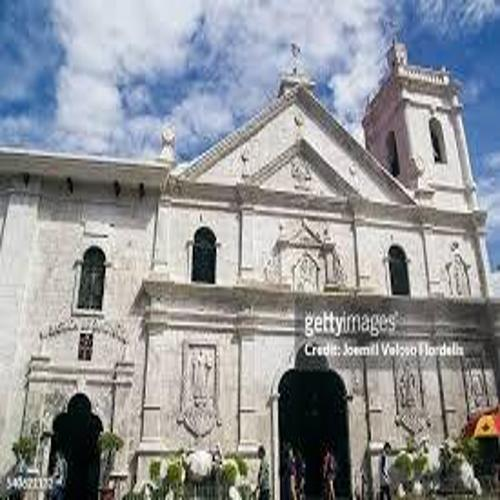Sto. Nino Basilica Church: (158, 19, 500, 500)
